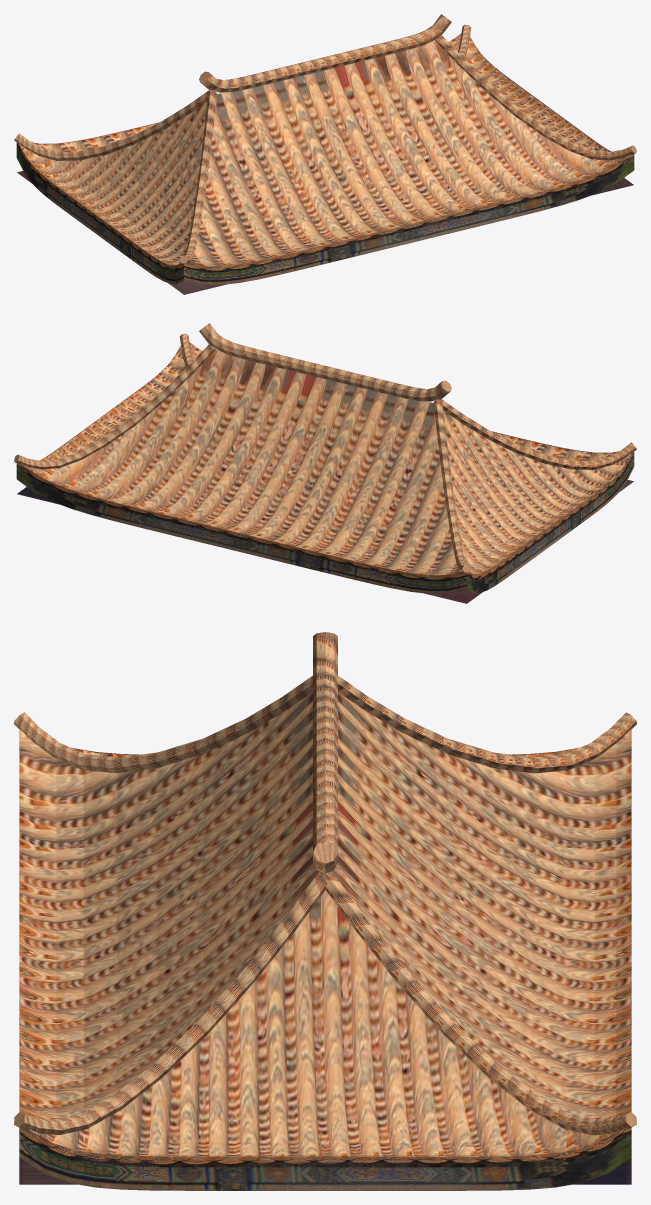
Rendered from roof.obj.
3 renders of one model, top to bottom at view 1: azimuth 30°, elevation 25°; view 2: azimuth 150°, elevation 25°; view 3: azimuth 270°, elevation 25°, orthographic. The views are drawn at different scales.
Parts seen in each view (by area): view 1: Roof_slope_/_front, Roof_slope_/_left, Painted_fascia_/_front, Raised_central_ridge, Tile_end_course_/_front, Roof_slope_/_right, Painted_fascia_/_left, Glazed_hip_ridge_(-1,_1), Glazed_hip_ridge_(1,_-1), Glazed_hip_ridge_(-1,_-1), Roof_slope_/_back, Tile_end_course_/_left (+1 smaller); view 2: Roof_slope_/_back, Roof_slope_/_left, Painted_fascia_/_back, Raised_central_ridge, Tile_end_course_/_back, Roof_slope_/_right, Painted_fascia_/_left, Glazed_hip_ridge_(1,_1), Glazed_hip_ridge_(-1,_-1), Glazed_hip_ridge_(1,_-1), Roof_slope_/_front, Tile_end_course_/_left (+1 smaller); view 3: Roof_slope_/_front, Roof_slope_/_back, Roof_slope_/_right, Painted_fascia_/_right, Tile_end_course_/_right, Glazed_hip_ridge_(1,_1), Glazed_hip_ridge_(-1,_1), Raised_central_ridge, Glazed_hip_ridge_(1,_-1), Glazed_hip_ridge_(-1,_-1), Roof_underside.
Boxes of the visible parts, left/top/right/bottom form: Roof_slope_/_front: left=190, top=41, right=628, bottom=266; Roof_slope_/_left: left=19, top=102, right=207, bottom=265; Painted_fascia_/_front: left=184, top=155, right=634, bottom=284; Raised_central_ridge: left=199, top=14, right=451, bottom=92; Tile_end_course_/_front: left=184, top=154, right=633, bottom=272; Roof_slope_/_right: left=465, top=36, right=610, bottom=151; Painted_fascia_/_left: left=16, top=143, right=183, bottom=284; Glazed_hip_ridge_(-1,_1): left=435, top=35, right=636, bottom=160; Glazed_hip_ridge_(1,_-1): left=14, top=90, right=211, bottom=160; Glazed_hip_ridge_(-1,_-1): left=180, top=91, right=217, bottom=263; Roof_slope_/_back: left=32, top=34, right=461, bottom=151; Tile_end_course_/_left: left=16, top=143, right=183, bottom=271; Roof_slope_/_back: left=21, top=350, right=460, bottom=575; Roof_slope_/_left: left=443, top=411, right=631, bottom=574; Painted_fascia_/_back: left=16, top=464, right=466, bottom=593; Raised_central_ridge: left=199, top=323, right=451, bottom=401; Tile_end_course_/_back: left=17, top=463, right=466, bottom=581; Roof_slope_/_right: left=40, top=345, right=185, bottom=460; Painted_fascia_/_left: left=467, top=452, right=634, bottom=593; Glazed_hip_ridge_(1,_1): left=14, top=344, right=215, bottom=469; Glazed_hip_ridge_(-1,_-1): left=439, top=399, right=636, bottom=469; Glazed_hip_ridge_(1,_-1): left=433, top=400, right=470, bottom=572; Roof_slope_/_front: left=189, top=343, right=618, bottom=460; Tile_end_course_/_left: left=467, top=452, right=634, bottom=580; Roof_slope_/_front: left=19, top=692, right=325, bottom=1119; Roof_slope_/_back: left=325, top=692, right=631, bottom=1119; Roof_slope_/_right: left=29, top=890, right=621, bottom=1156; Painted_fascia_/_right: left=19, top=1129, right=631, bottom=1190; Tile_end_course_/_right: left=19, top=1128, right=631, bottom=1167; Glazed_hip_ridge_(1,_1): left=325, top=871, right=636, bottom=1135; Glazed_hip_ridge_(-1,_1): left=14, top=871, right=325, bottom=1134; Raised_central_ridge: left=313, top=632, right=337, bottom=873; Glazed_hip_ridge_(1,_-1): left=338, top=675, right=636, bottom=773; Glazed_hip_ridge_(-1,_-1): left=14, top=675, right=312, bottom=773; Roof_underside: left=19, top=1133, right=631, bottom=1184.
Bounding box in the file's own units: 214 × 62.34 × 139.
4 materials, 4 textured.
